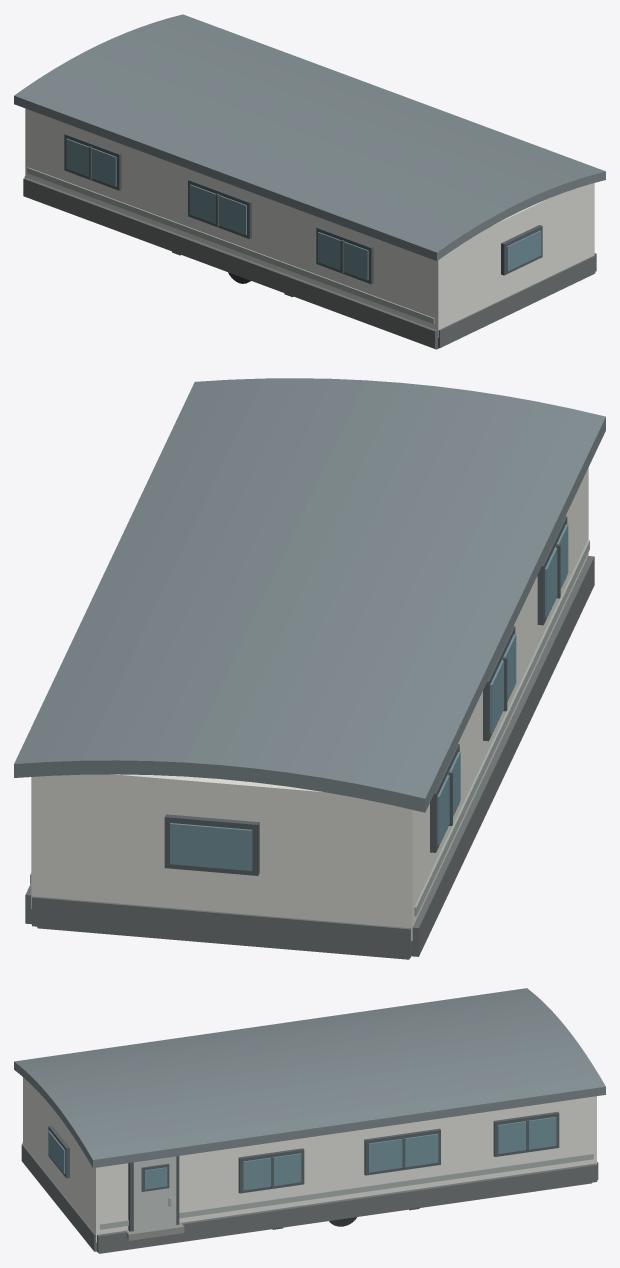
The picture shows the model from 3 angles, top to bottom: view 1: azimuth 30°, elevation 25°; view 2: azimuth 150°, elevation 25°; view 3: azimuth 270°, elevation 25°; orthographic projection. The views are drawn at different scales.
Visible parts, largest first — view 1: shallow_crowned_roof, main_caravan_body, lower_side_skirt_negative, lower_end_skirt_positive, side_stripe_negative, negative_side_window_2_glass, negative_side_window_3_glass, negative_side_window_1_glass, front_end_window_glass, negative_side_window_1_frame, negative_side_window_2_frame, negative_side_window_3_frame (+1 smaller); view 2: shallow_crowned_roof, main_caravan_body, lower_end_skirt_negative, lower_side_skirt_negative, rear_end_window_glass, side_stripe_negative, rear_end_window_frame, negative_side_window_2_glass, negative_side_window_3_glass, negative_side_window_1_glass, underframe_main; view 3: shallow_crowned_roof, main_caravan_body, lower_side_skirt_positive, side_stripe_positive, entrance_door_panel, positive_side_window_2_glass, positive_side_window_3_glass, positive_side_window_1_glass, lower_end_skirt_positive, positive_side_window_2_frame, positive_side_window_1_frame, positive_side_window_3_frame (+5 smaller).
Part boxes in pixels (bbox=[...]): shallow_crowned_roof: bbox=[14, 14, 605, 260]; main_caravan_body: bbox=[25, 108, 594, 337]; lower_side_skirt_negative: bbox=[23, 177, 437, 348]; lower_end_skirt_positive: bbox=[438, 255, 595, 347]; side_stripe_negative: bbox=[27, 167, 434, 323]; negative_side_window_2_glass: bbox=[189, 184, 246, 235]; negative_side_window_3_glass: bbox=[318, 232, 368, 280]; negative_side_window_1_glass: bbox=[66, 138, 116, 186]; front_end_window_glass: bbox=[506, 230, 541, 271]; negative_side_window_1_frame: bbox=[64, 133, 121, 190]; negative_side_window_2_frame: bbox=[188, 179, 251, 238]; negative_side_window_3_frame: bbox=[316, 226, 373, 284]; shallow_crowned_roof: bbox=[14, 378, 605, 812]; main_caravan_body: bbox=[31, 468, 588, 940]; lower_end_skirt_negative: bbox=[32, 896, 411, 957]; lower_side_skirt_negative: bbox=[411, 556, 594, 956]; rear_end_window_glass: bbox=[170, 823, 252, 870]; side_stripe_negative: bbox=[414, 540, 589, 916]; rear_end_window_frame: bbox=[164, 814, 259, 875]; negative_side_window_2_glass: bbox=[490, 634, 516, 733]; negative_side_window_3_glass: bbox=[545, 524, 568, 617]; negative_side_window_1_glass: bbox=[437, 752, 460, 845]; underframe_main: bbox=[37, 926, 409, 959]; shallow_crowned_roof: bbox=[14, 988, 605, 1168]; main_caravan_body: bbox=[23, 1077, 596, 1242]; lower_side_skirt_positive: bbox=[97, 1163, 597, 1253]; side_stripe_positive: bbox=[100, 1153, 593, 1229]; entrance_door_panel: bbox=[133, 1156, 176, 1231]; positive_side_window_2_glass: bbox=[368, 1133, 438, 1172]; positive_side_window_3_glass: bbox=[243, 1153, 301, 1190]; positive_side_window_1_glass: bbox=[498, 1117, 556, 1153]; lower_end_skirt_positive: bbox=[21, 1144, 96, 1251]; positive_side_window_2_frame: bbox=[364, 1128, 440, 1175]; positive_side_window_1_frame: bbox=[493, 1111, 559, 1156]; positive_side_window_3_frame: bbox=[238, 1148, 304, 1193].
Size of the model in its own units: 7.63 by 2.5 by 11.1.
